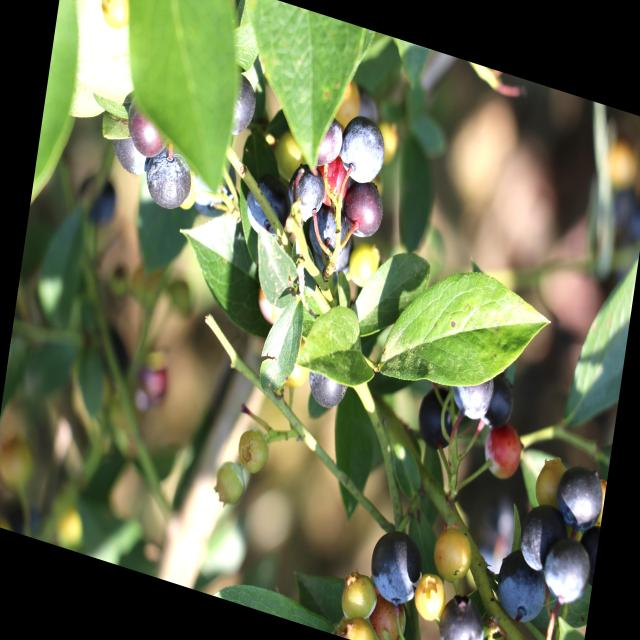blueberry: (365, 522, 424, 613), (489, 548, 549, 630), (540, 529, 594, 609), (336, 111, 388, 193), (144, 142, 195, 221), (553, 461, 605, 538), (243, 169, 294, 245), (516, 498, 565, 576), (122, 91, 172, 161), (413, 382, 460, 455), (341, 176, 386, 249), (283, 156, 327, 224), (305, 201, 348, 269), (303, 360, 351, 418), (436, 586, 486, 640), (453, 366, 495, 426), (224, 72, 258, 142), (311, 113, 345, 173), (481, 375, 516, 430)
blueberry-halfripe: (480, 421, 525, 487), (366, 595, 410, 640)
blueberry-unripe: (428, 521, 476, 589), (206, 452, 249, 514), (527, 445, 566, 513), (344, 238, 388, 297), (339, 570, 382, 629), (406, 565, 448, 623), (234, 427, 271, 478), (94, 0, 137, 35)
